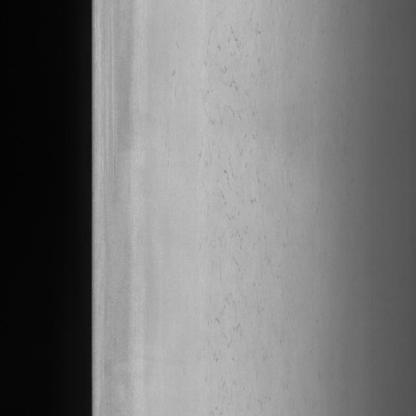silk_spot: (202, 0, 288, 387)
